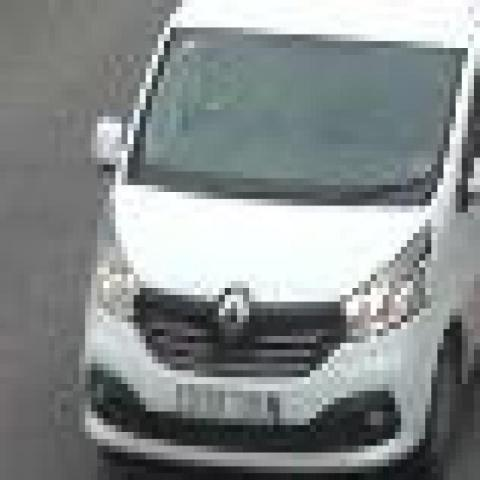van: (79, 0, 480, 473)
